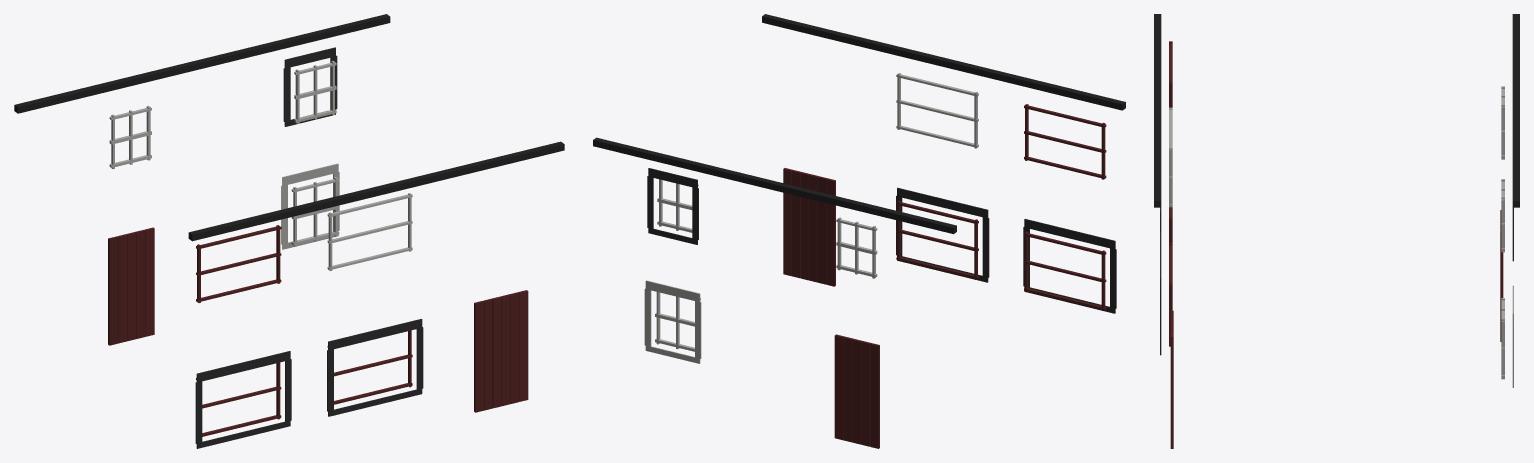
File: SM_Bld_011_Wood.glb
3 renders of one model, left to right at view 1: azimuth 30°, elevation 25°; view 2: azimuth 150°, elevation 25°; view 3: azimuth 270°, elevation 25°, orthographic. The views are drawn at different scales.
Parts seen in each view (by area): view 1: SM_Bld_011_Wood; view 2: SM_Bld_011_Wood; view 3: SM_Bld_011_Wood.
Part boxes in pixels (x1,y1,x2,y2): SM_Bld_011_Wood: (14, 14, 564, 448); SM_Bld_011_Wood: (593, 14, 1125, 448); SM_Bld_011_Wood: (1154, 14, 1519, 448).
Bounding box in the file's own units: 7.34 × 4.8 × 6.07.
